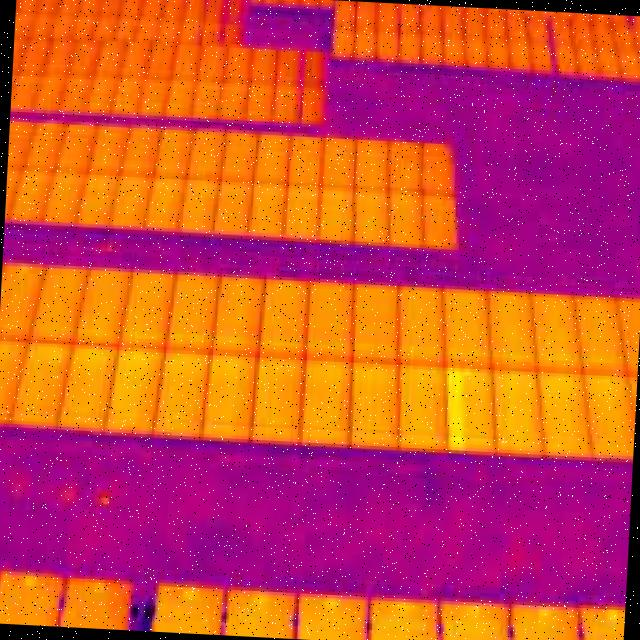Hotspot: (441, 368, 472, 454)
